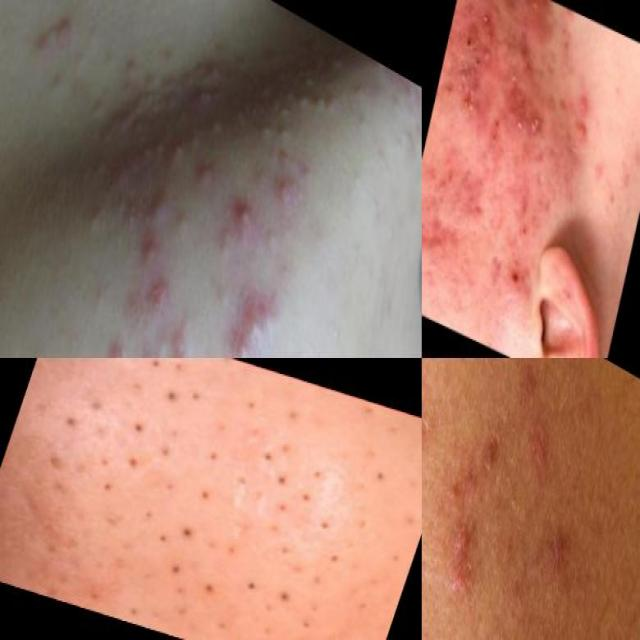8: (434, 501, 486, 582), (143, 266, 174, 321)
9: (132, 232, 162, 291), (166, 314, 194, 358), (98, 323, 126, 358), (234, 193, 256, 234), (224, 332, 255, 358)
blackheads: (442, 57, 484, 115), (270, 166, 308, 224), (146, 269, 174, 324), (422, 216, 443, 268)
dark spot: (249, 571, 362, 640), (232, 428, 334, 493), (252, 459, 327, 530), (82, 439, 150, 502), (296, 540, 354, 598), (152, 373, 214, 420), (228, 563, 274, 610), (115, 406, 162, 447), (224, 387, 271, 428), (153, 548, 194, 590), (188, 571, 230, 607), (168, 515, 208, 549), (186, 479, 221, 513), (366, 461, 399, 493), (196, 440, 231, 470), (153, 437, 183, 467)
pustules: (235, 274, 284, 354), (138, 164, 178, 242), (508, 0, 558, 54), (570, 111, 590, 152)
